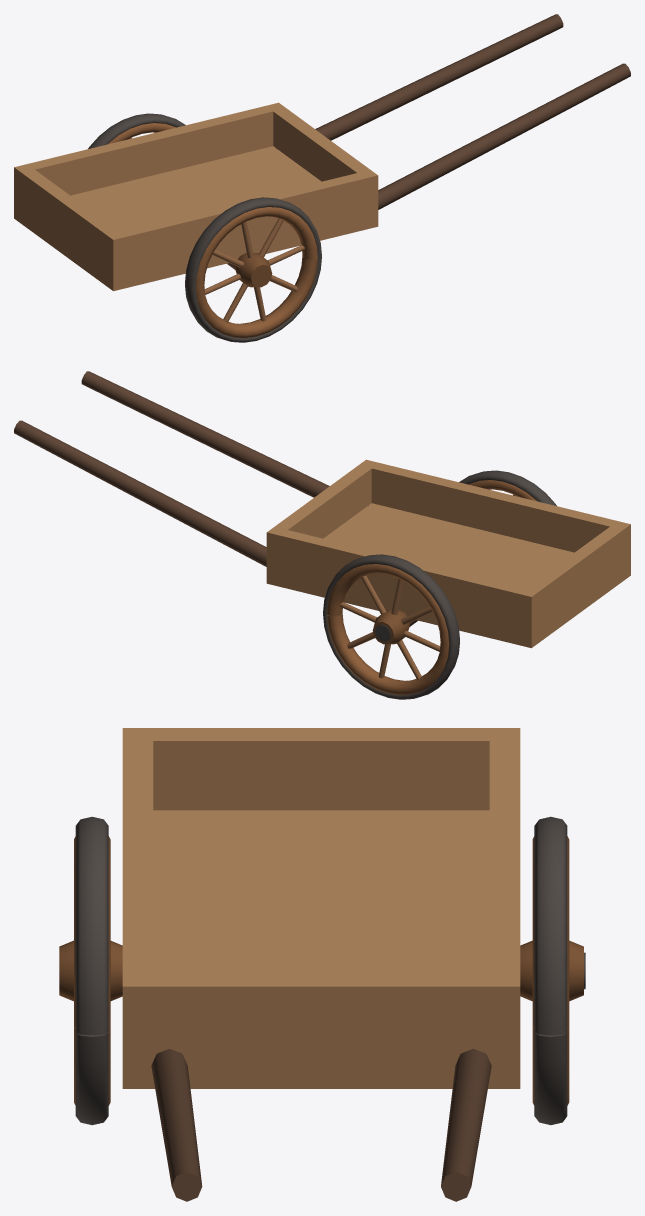
File: cart.fbx
3 renders of one model, top to bottom at view 1: azimuth 30°, elevation 25°; view 2: azimuth 150°, elevation 25°; view 3: azimuth 270°, elevation 25°, orthographic. The views are drawn at different scales.
Parts seen in each view (by area): view 1: cart; view 2: cart; view 3: cart.
Boxes of the visible parts, x1,y1,x2,y2 form: cart: (14, 14, 630, 342); cart: (14, 371, 630, 699); cart: (59, 728, 585, 1201).
Size of the model in its own units: 0.4012 by 0.1174 by 0.1722.
